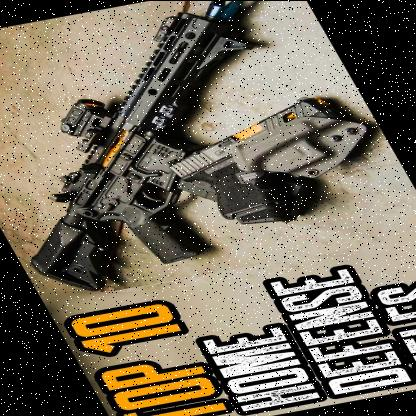rifle: (0, 94, 263, 298)
